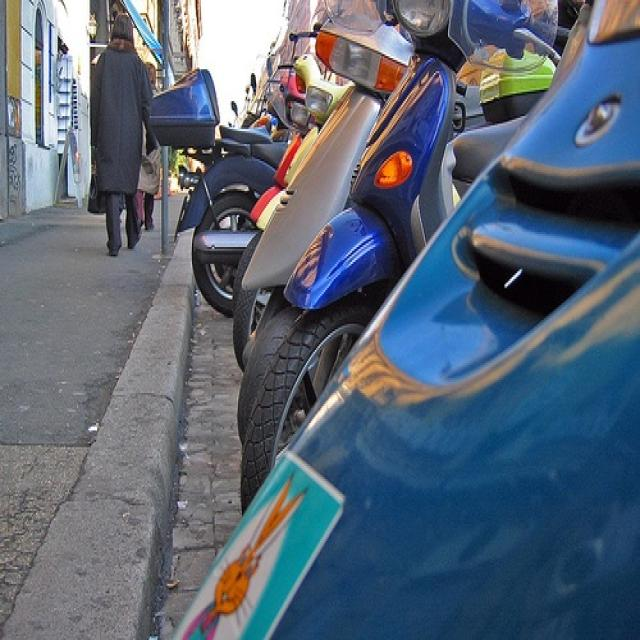motorbike: (242, 1, 572, 523), (234, 3, 417, 366), (154, 67, 278, 314)
person: (90, 13, 154, 258)
